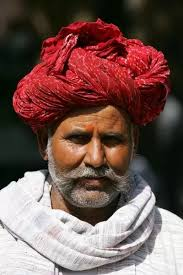Indian_Male: (34, 97, 137, 208)
